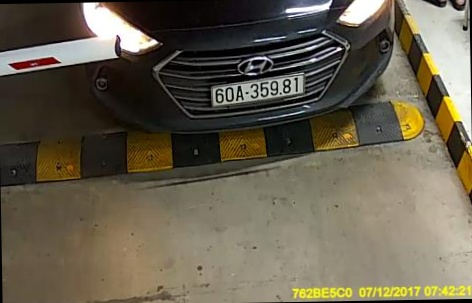plate: (206, 70, 308, 106)
